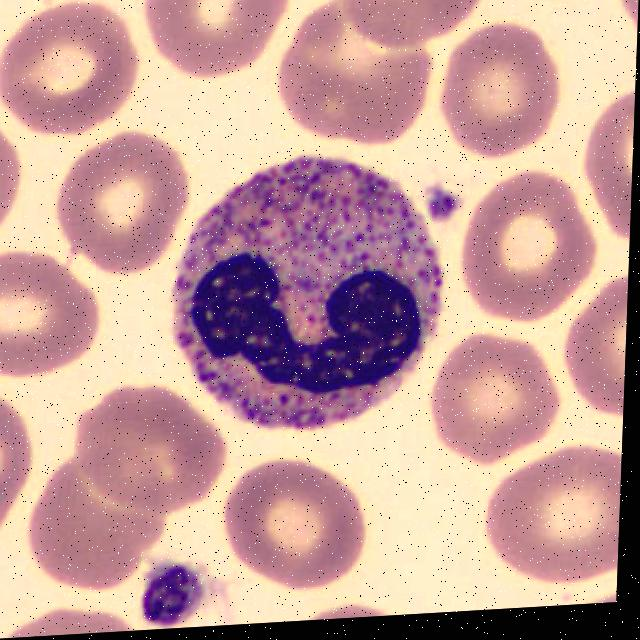neutrophil: (163, 150, 448, 444)
platelets: (136, 547, 208, 631)
rbc: (275, 0, 438, 158), (224, 446, 371, 610), (462, 166, 598, 330), (0, 0, 149, 149), (425, 324, 574, 471), (432, 13, 571, 169), (477, 446, 622, 592), (64, 388, 219, 519), (58, 136, 192, 286), (35, 450, 166, 599), (0, 243, 120, 396), (134, 0, 286, 86), (577, 89, 635, 257), (567, 273, 628, 425), (349, 0, 482, 55), (0, 115, 45, 258), (0, 398, 35, 552), (0, 601, 138, 639), (475, 0, 640, 13), (619, 0, 640, 77)
